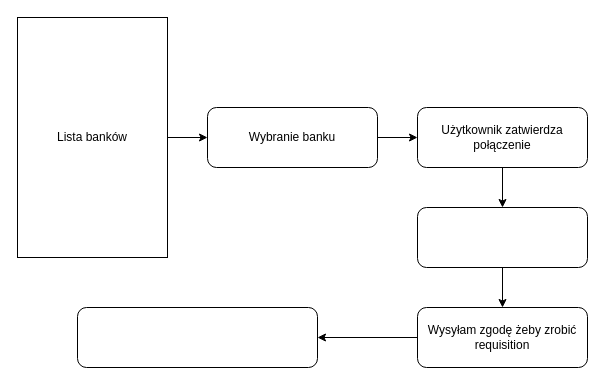
Image size: 605x385. Some labels were removed from this diagram. The box of each missing label's shape, as (x1, y1, x2, y2) in pixels:
Otrzymuję ID zgody użytkownika: (416, 206, 588, 268)
W odpowiedzi otrzymuję link na który ma być przekierowany użytkownik: (76, 306, 318, 368)
